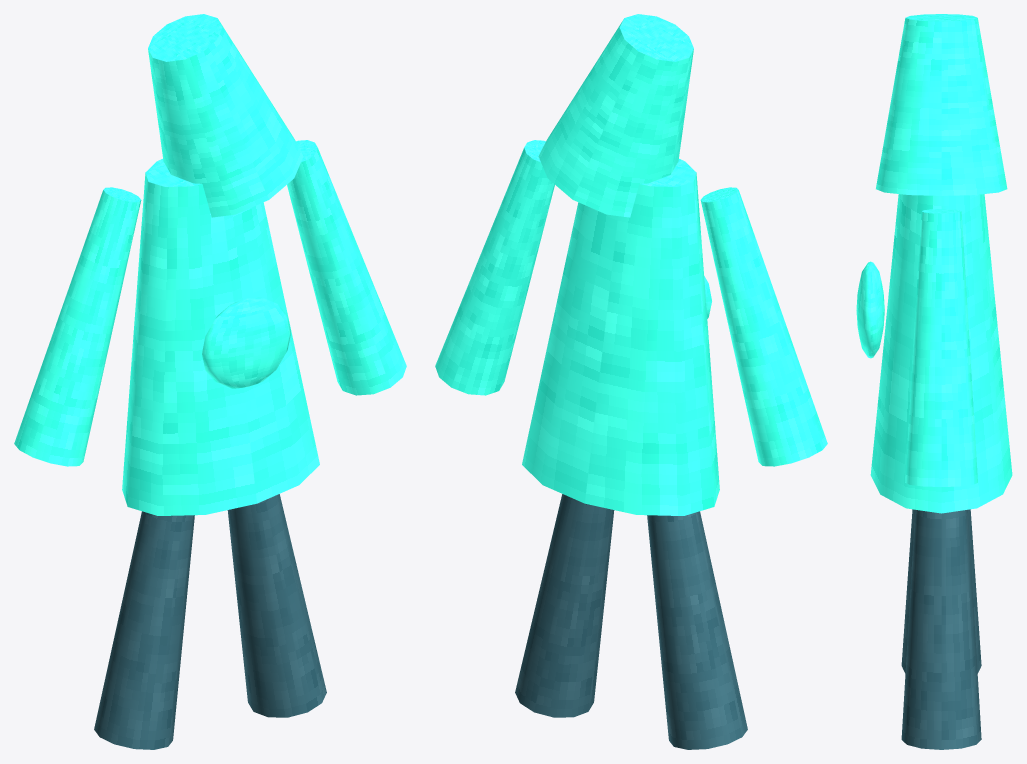
The model's file is aru-crystal-being.glb.
The picture shows the model from 3 angles, left to right: view 1: azimuth 30°, elevation 25°; view 2: azimuth 150°, elevation 25°; view 3: azimuth 270°, elevation 25°; orthographic projection.
Visible parts, largest first — view 1: faceted body (×6), inner light; view 2: faceted body (×6); view 3: faceted body (×5), inner light.
Boxes of the visible parts, box(x1,y1,x2,y2) form: faceted body (×6): box(14, 14, 406, 749); inner light: box(202, 297, 290, 388); faceted body (×6): box(435, 14, 827, 749); faceted body (×5): box(870, 14, 1012, 749); inner light: box(856, 261, 884, 358).
Size of the model in its own units: 0.8562 by 1.5 by 0.308.
Materials: 2 (2 with a texture image).
